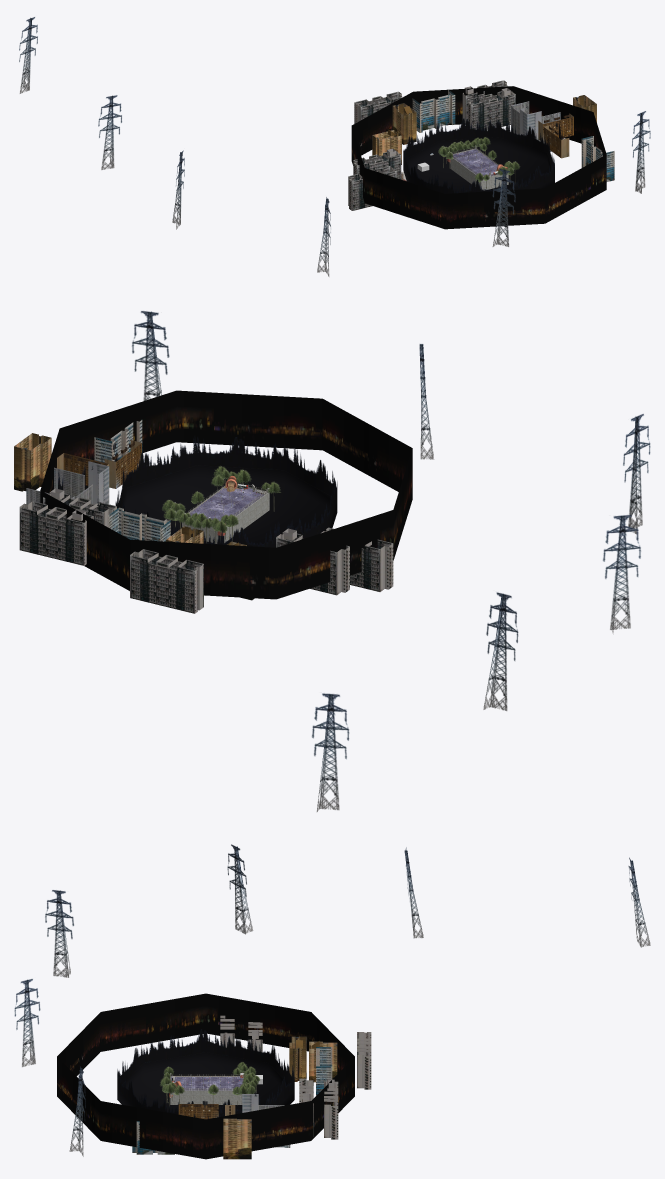
File: parking_lot.glb
The picture shows the model from 3 angles, top to bottom: view 1: azimuth 30°, elevation 25°; view 2: azimuth 150°, elevation 25°; view 3: azimuth 270°, elevation 25°; orthographic projection. The views are drawn at different scales.
Visible parts, largest first — view 1: city_skyline, building, treeline, trans_tower, roof_tree, outerwall, asphalt; view 2: city_skyline, building, treeline, trans_tower, roof_tree, outerwall, asphalt; view 3: city_skyline, treeline, building, trans_tower, outerwall, roof_tree, asphalt.
Part boxes in pixels (bbox=[...]): city_skyline: bbox=[351, 86, 606, 229]; building: bbox=[348, 80, 614, 210]; treeline: bbox=[403, 118, 564, 193]; trans_tower: bbox=[19, 17, 650, 276]; roof_tree: bbox=[438, 137, 519, 188]; outerwall: bbox=[450, 145, 508, 190]; asphalt: bbox=[453, 149, 497, 175]; city_skyline: bbox=[40, 390, 412, 599]; building: bbox=[14, 419, 393, 613]; treeline: bbox=[58, 436, 337, 547]; trans_tower: bbox=[132, 311, 650, 811]; roof_tree: bbox=[162, 466, 280, 542]; outerwall: bbox=[182, 482, 269, 543]; asphalt: bbox=[189, 488, 263, 521]; city_skyline: bbox=[57, 993, 354, 1159]; treeline: bbox=[117, 1029, 294, 1118]; building: bbox=[132, 1015, 371, 1159]; trans_tower: bbox=[14, 844, 650, 1156]; outerwall: bbox=[170, 1073, 243, 1104]; roof_tree: bbox=[160, 1062, 260, 1106]; asphalt: bbox=[171, 1077, 242, 1090].
Size of the model in its own units: 977 by 221 by 1135.
69 materials, 65 textured.
